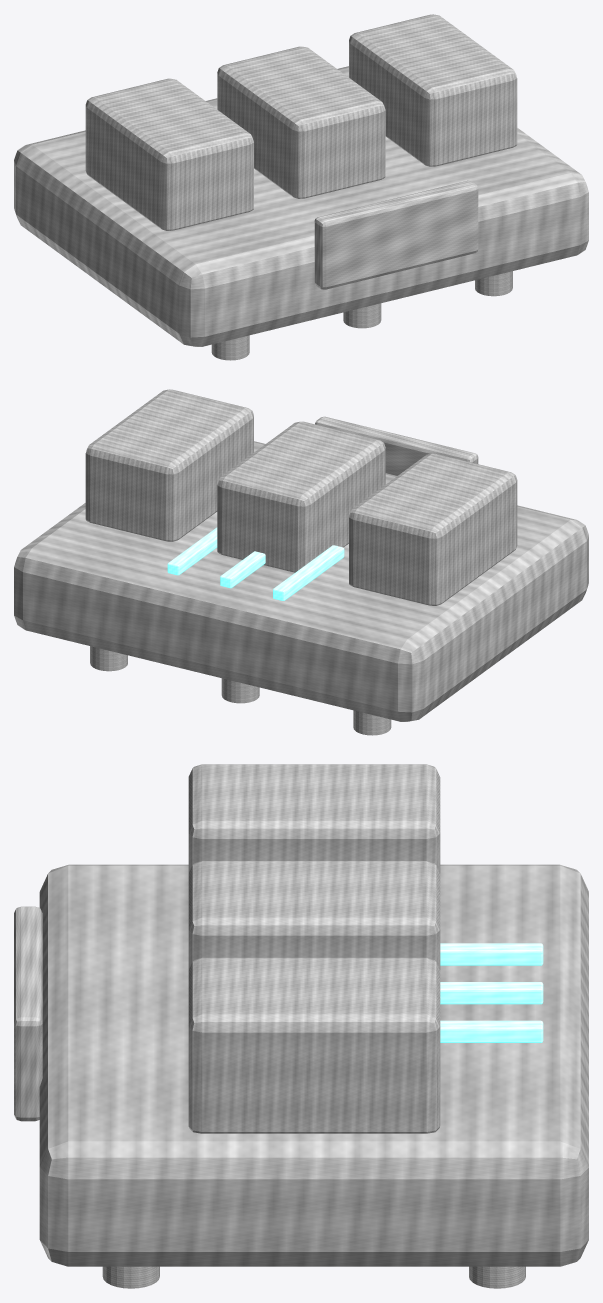
The model's file is item-biochemical-sculptor_variant_a.glb.
3 renders of one model, top to bottom at view 1: azimuth 30°, elevation 25°; view 2: azimuth 150°, elevation 25°; view 3: azimuth 270°, elevation 25°, orthographic. The views are drawn at different scales.
Visible parts, largest first — view 1: Electronics carrier, Electronic module, Electronic module.002, Electronic module.001, Circuit display.001, Connector pin.003, Connector pin.001, Connector pin.005; view 2: Electronics carrier, Electronic module, Electronic module.002, Electronic module.001, Circuit display.001, Circuit trace.001, Circuit trace.003, Circuit trace.002, Connector pin.004, Connector pin.002, Connector pin.006; view 3: Electronics carrier, Electronic module.002, Electronic module, Electronic module.001, Circuit display.001, Circuit trace.001, Circuit trace.002, Circuit trace.003, Connector pin.005, Connector pin.006.
Part boxes in pixels (x1,y1,x2,y2): Electronics carrier: (14,66,588,346); Electronic module: (85,78,253,230); Electronic module.002: (349,14,517,166); Electronic module.001: (217,46,385,198); Circuit display.001: (314,180,478,289); Connector pin.003: (343,303,381,328); Connector pin.001: (211,335,249,360); Connector pin.005: (475,271,512,296); Electronics carrier: (14,441,588,721); Electronic module: (349,453,517,605); Electronic module.002: (85,389,253,541); Electronic module.001: (217,421,385,572); Circuit display.001: (315,416,478,475); Circuit trace.001: (273,545,344,600); Circuit trace.003: (167,527,217,575); Circuit trace.002: (220,551,265,588); Connector pin.004: (221,678,259,703); Connector pin.002: (353,710,391,735); Connector pin.006: (90,646,127,671); Electronics carrier: (39,864,588,1266); Electronic module.002: (188,957,440,1133); Electronic module: (188,764,440,873); Electronic module.001: (188,861,440,969); Circuit display.001: (14,906,42,1121); Circuit trace.001: (440,943,543,965); Circuit trace.002: (440,982,543,1004); Circuit trace.003: (440,1020,543,1042); Connector pin.005: (102,1266,159,1288); Connector pin.006: (469,1266,525,1288).
Size of what is drawn, in the model's own units: 0.62 by 0.28 by 0.5025.
5 materials, 5 textured.
